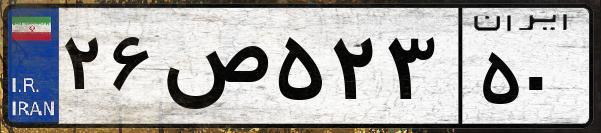0: (525, 38, 570, 115)
2: (330, 28, 385, 110), (57, 26, 110, 100)
3: (385, 28, 445, 110)
5: (270, 28, 330, 110), (475, 38, 525, 113)
6: (110, 28, 158, 98)
ص: (158, 20, 270, 120)
